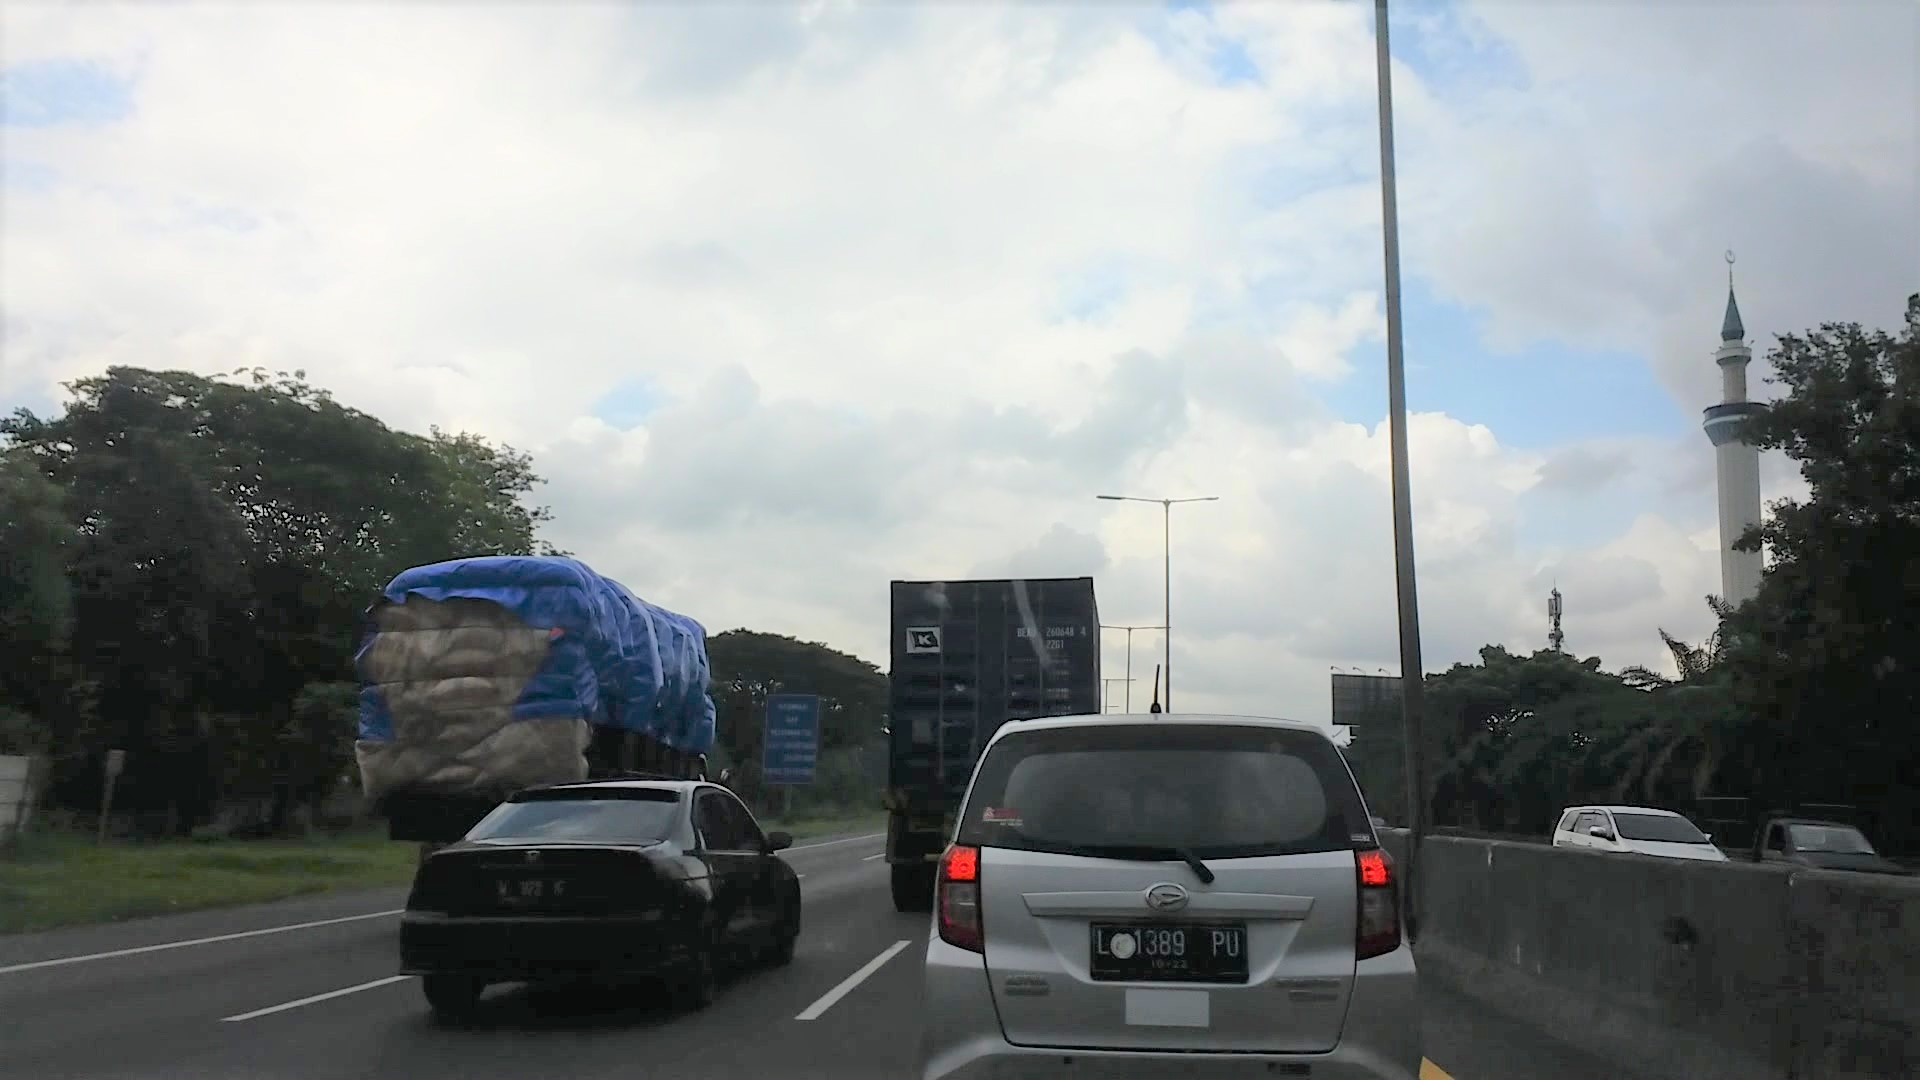plate_positive: (1089, 920, 1247, 985)
